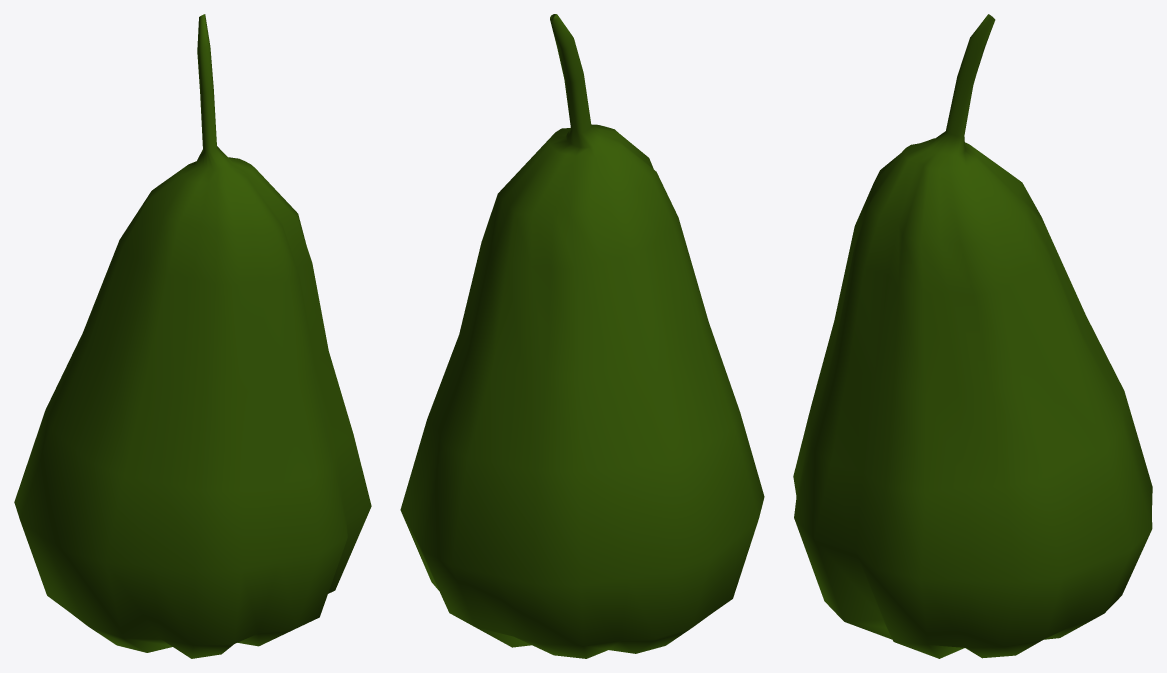
Rendered from CalL.fbx.
3 renders of one model, left to right at view 1: azimuth 30°, elevation 25°; view 2: azimuth 150°, elevation 25°; view 3: azimuth 270°, elevation 25°, orthographic. The views are drawn at different scales.
Visible parts, largest first — view 1: RetopoFlow; view 2: RetopoFlow; view 3: RetopoFlow.
Boxes of the visible parts, left/top/right/bottom form: RetopoFlow: left=14, top=14, right=371, bottom=658; RetopoFlow: left=400, top=14, right=764, bottom=658; RetopoFlow: left=793, top=14, right=1152, bottom=658.
Bounding box in the file's own units: 205 × 388 × 205.
